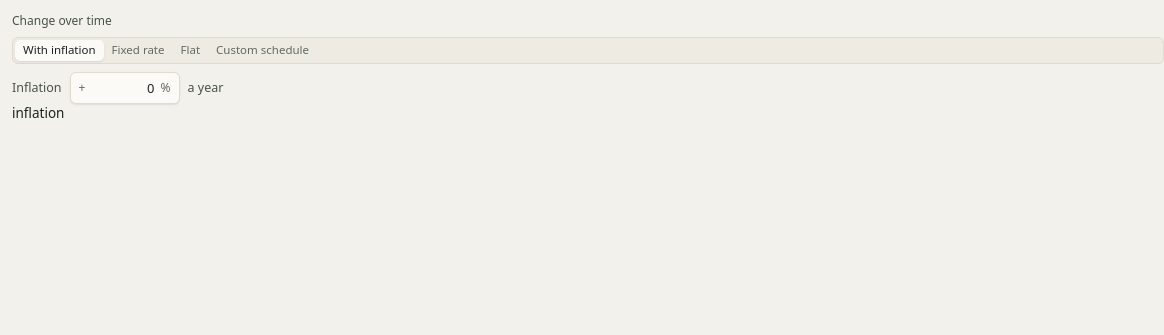
Test case: ChangeEditor › switches to a custom schedule with editable points
Click the radio button labelled "Custom schedule" at (262, 51), box [208,40,317,61]
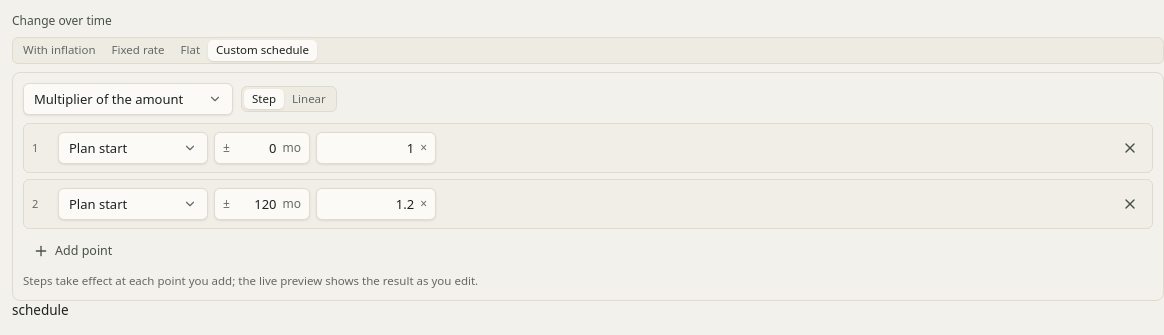
Result: the text with test id "kind" reads "schedule" at [12,301,69,319]
Result: the number of elements "Plan start ± mo" is 2 at [58,132,310,164]; [58,188,310,220]
